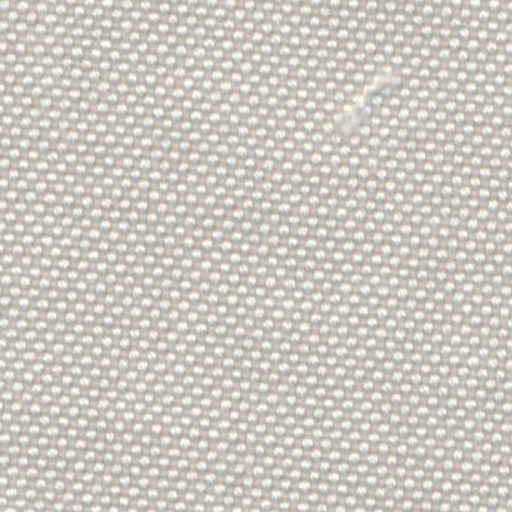DuanSha: (329, 52, 412, 140)
